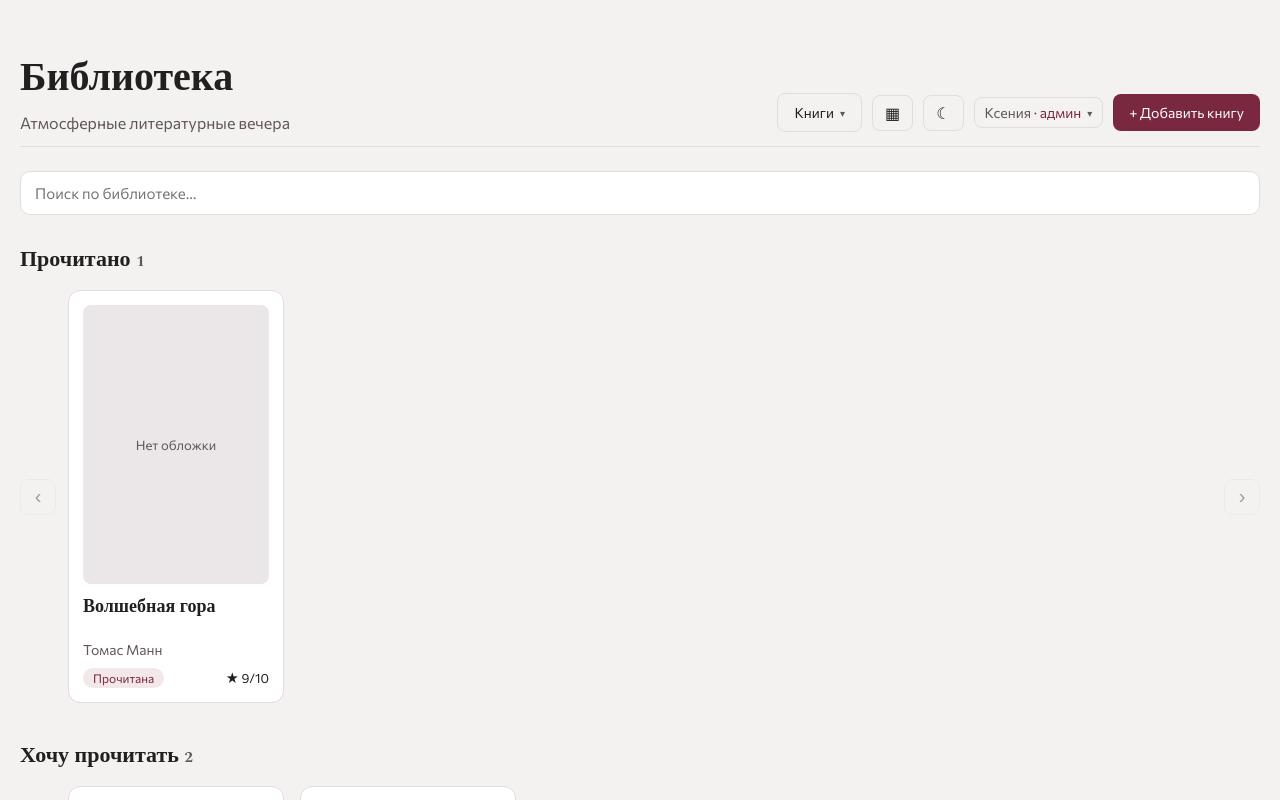
Test: клик по книге открывает её страницу, «К библиотеке» возвращает
What coordinates should you click on to do the following:
click the button with aria-label "Волшебная гора — Томас Манн"
I would click on:
 (176, 497)
Its box is [68, 290, 284, 703].
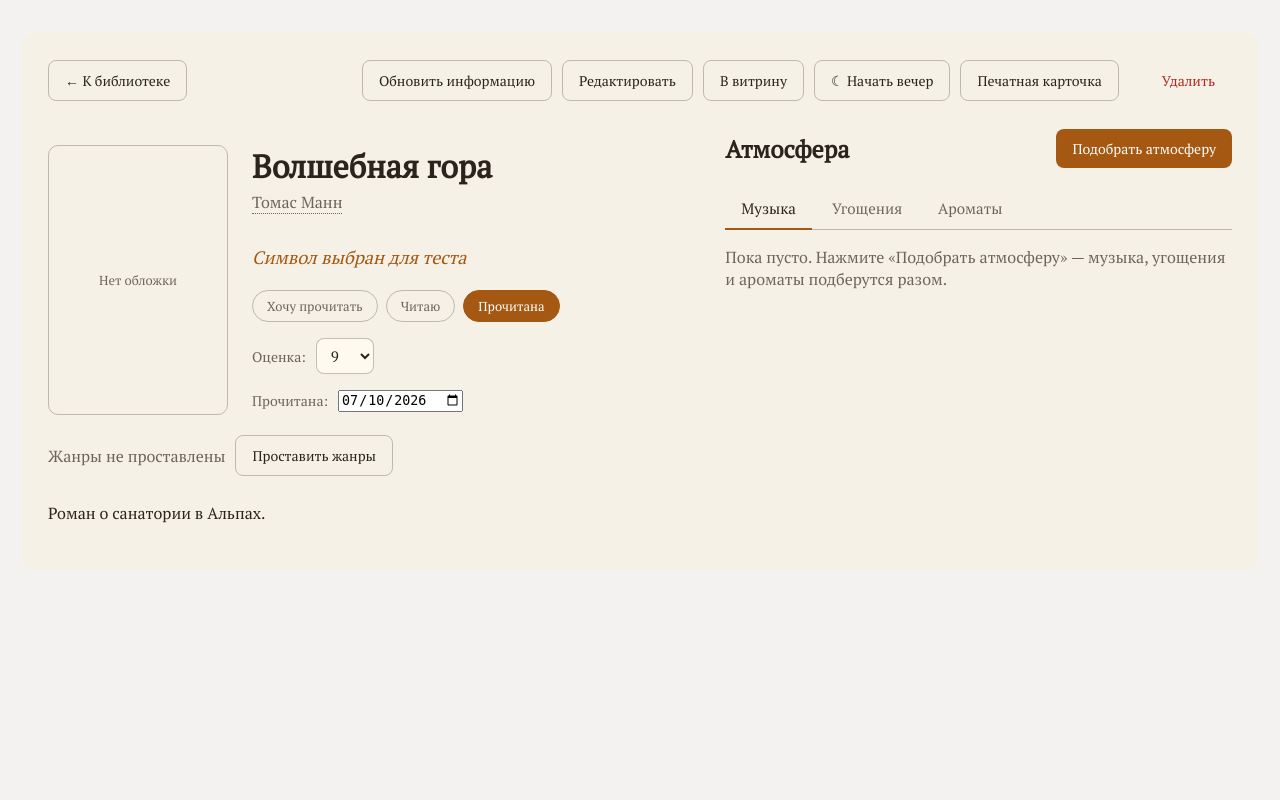
Check: the heading "Волшебная гора" is shown, box [252, 145, 492, 187]
Check: the text "Роман о санатории в Альпах." is shown, box [48, 502, 266, 524]
What coordinates should you click on to do the following:
click the button "← К библиотеке"
I would click on:
 (118, 80)
Its box is [48, 60, 187, 101].
(page scrolled)
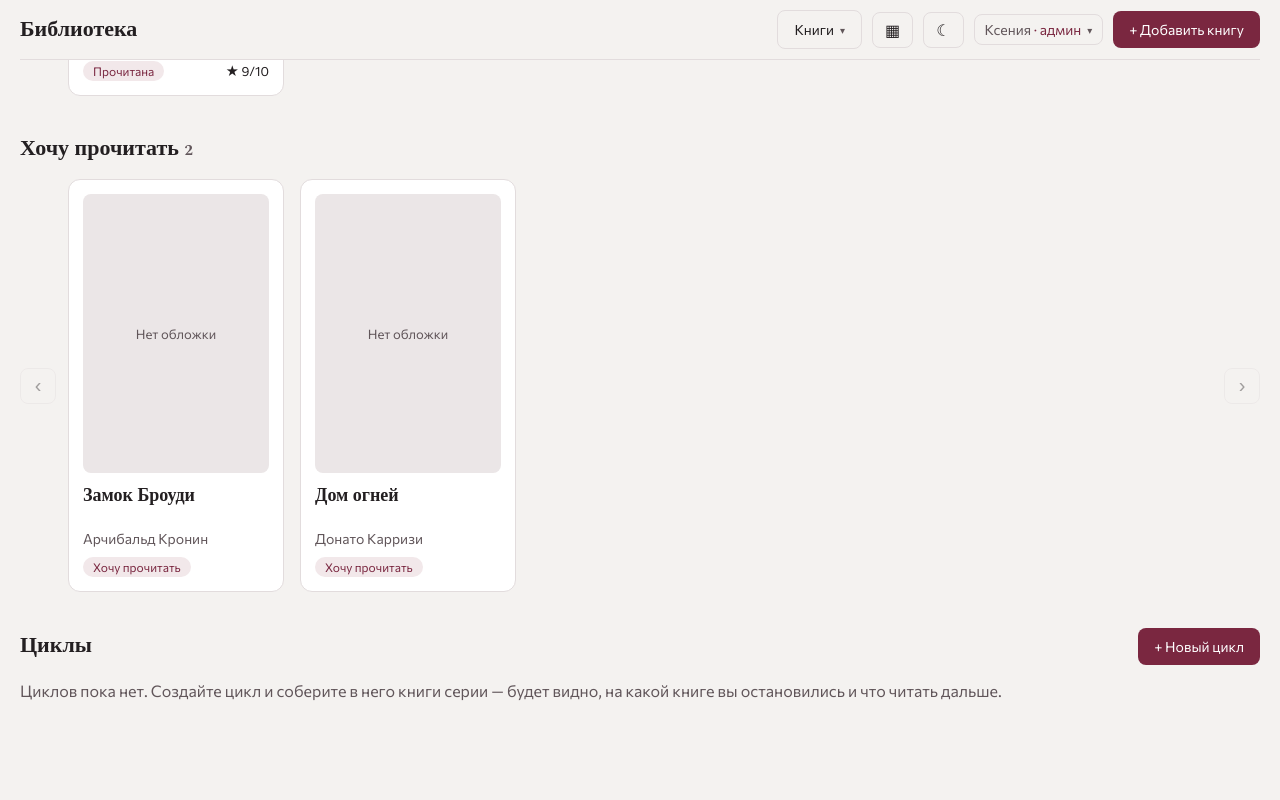
Check: the heading "Дом огней" is shown, box [315, 482, 399, 509]
